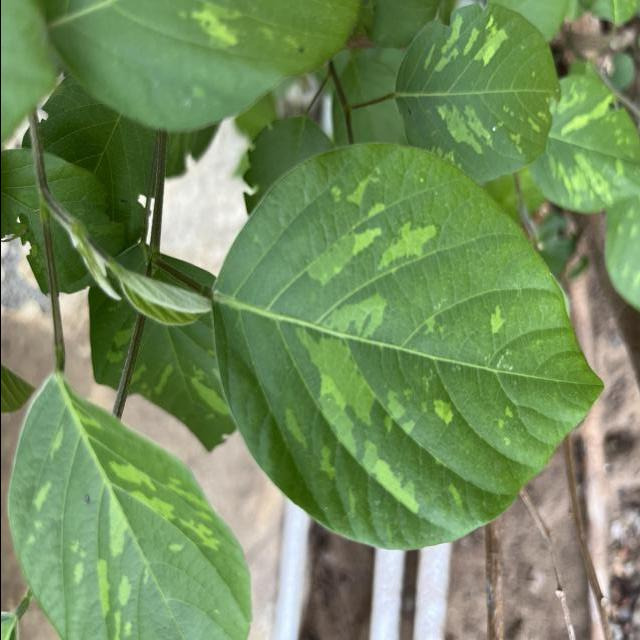Desmodium gangeticum: (207, 137, 607, 556)
